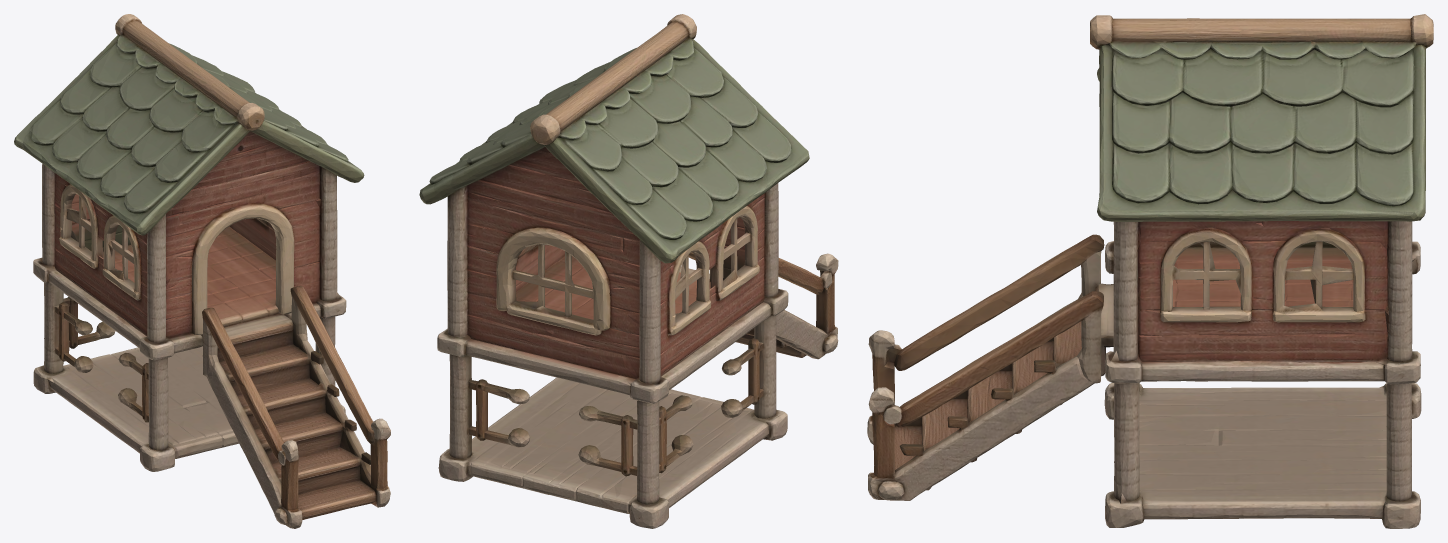
Rendered from DOM_budka_2__stone.glb.
3 views of the same model, side by side, from view 1: azimuth 30°, elevation 25°; view 2: azimuth 150°, elevation 25°; view 3: azimuth 270°, elevation 25° (orthographic). The views are drawn at different scales.
Visible parts, largest first — view 1: tripo_node_ac6729f5-73c2-4e4e-95e1-3ff5b1cdb705; view 2: tripo_node_ac6729f5-73c2-4e4e-95e1-3ff5b1cdb705; view 3: tripo_node_ac6729f5-73c2-4e4e-95e1-3ff5b1cdb705.
Part boxes in pixels (bbox=[...]): tripo_node_ac6729f5-73c2-4e4e-95e1-3ff5b1cdb705: bbox=[14, 14, 390, 528]; tripo_node_ac6729f5-73c2-4e4e-95e1-3ff5b1cdb705: bbox=[419, 14, 838, 528]; tripo_node_ac6729f5-73c2-4e4e-95e1-3ff5b1cdb705: bbox=[867, 14, 1433, 528].
Size of the model in its own units: 2.76 by 4 by 4.52.
1 material, 1 textured.
